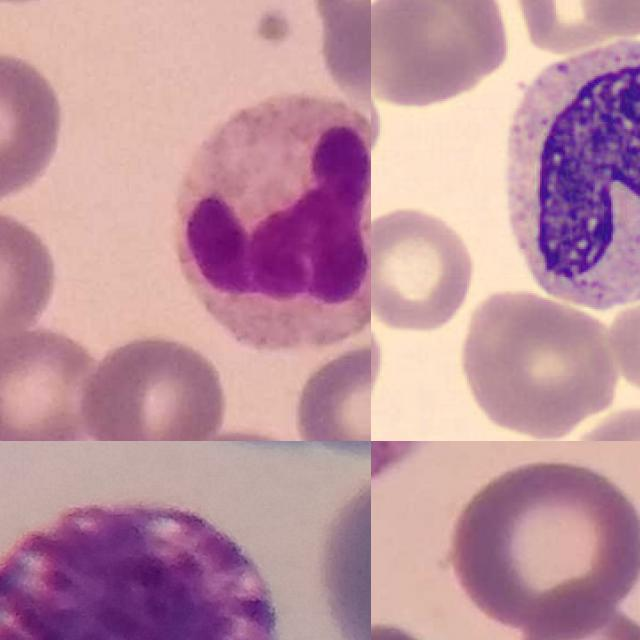Basophil: (0, 504, 275, 640)
Lymphocyte: (486, 23, 640, 321)
Neutrophil: (179, 101, 371, 353)
RBC: (453, 290, 625, 438), (371, 0, 513, 111), (371, 201, 479, 335), (605, 282, 640, 404), (572, 404, 640, 441)
